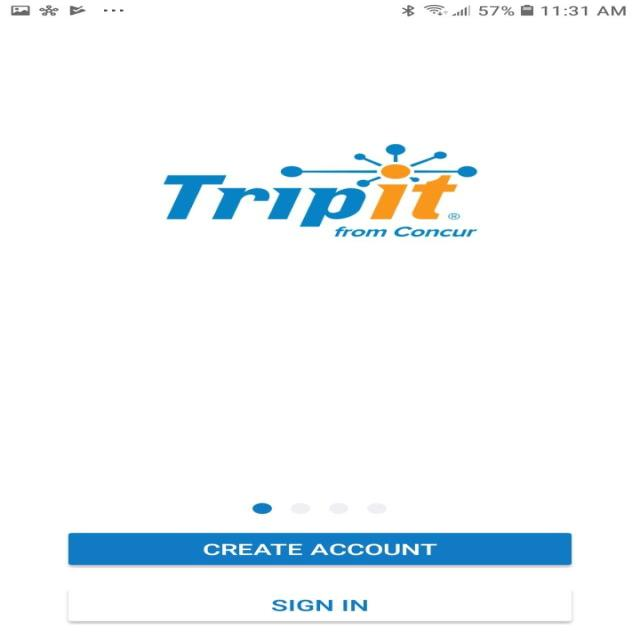Image: (162, 144, 477, 238)
TextButton: (68, 588, 572, 621), (69, 532, 572, 565)
